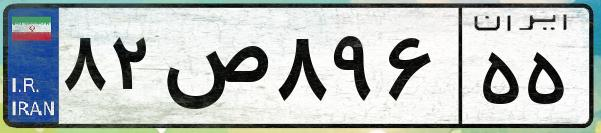2: (110, 28, 158, 98)
5: (475, 38, 525, 113), (525, 38, 570, 115)
6: (385, 28, 445, 110)
8: (270, 28, 330, 110), (57, 26, 110, 100)
9: (330, 28, 385, 110)
ص: (158, 20, 270, 120)
